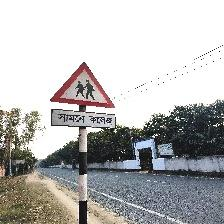College-in-front: (44, 56, 157, 178)
